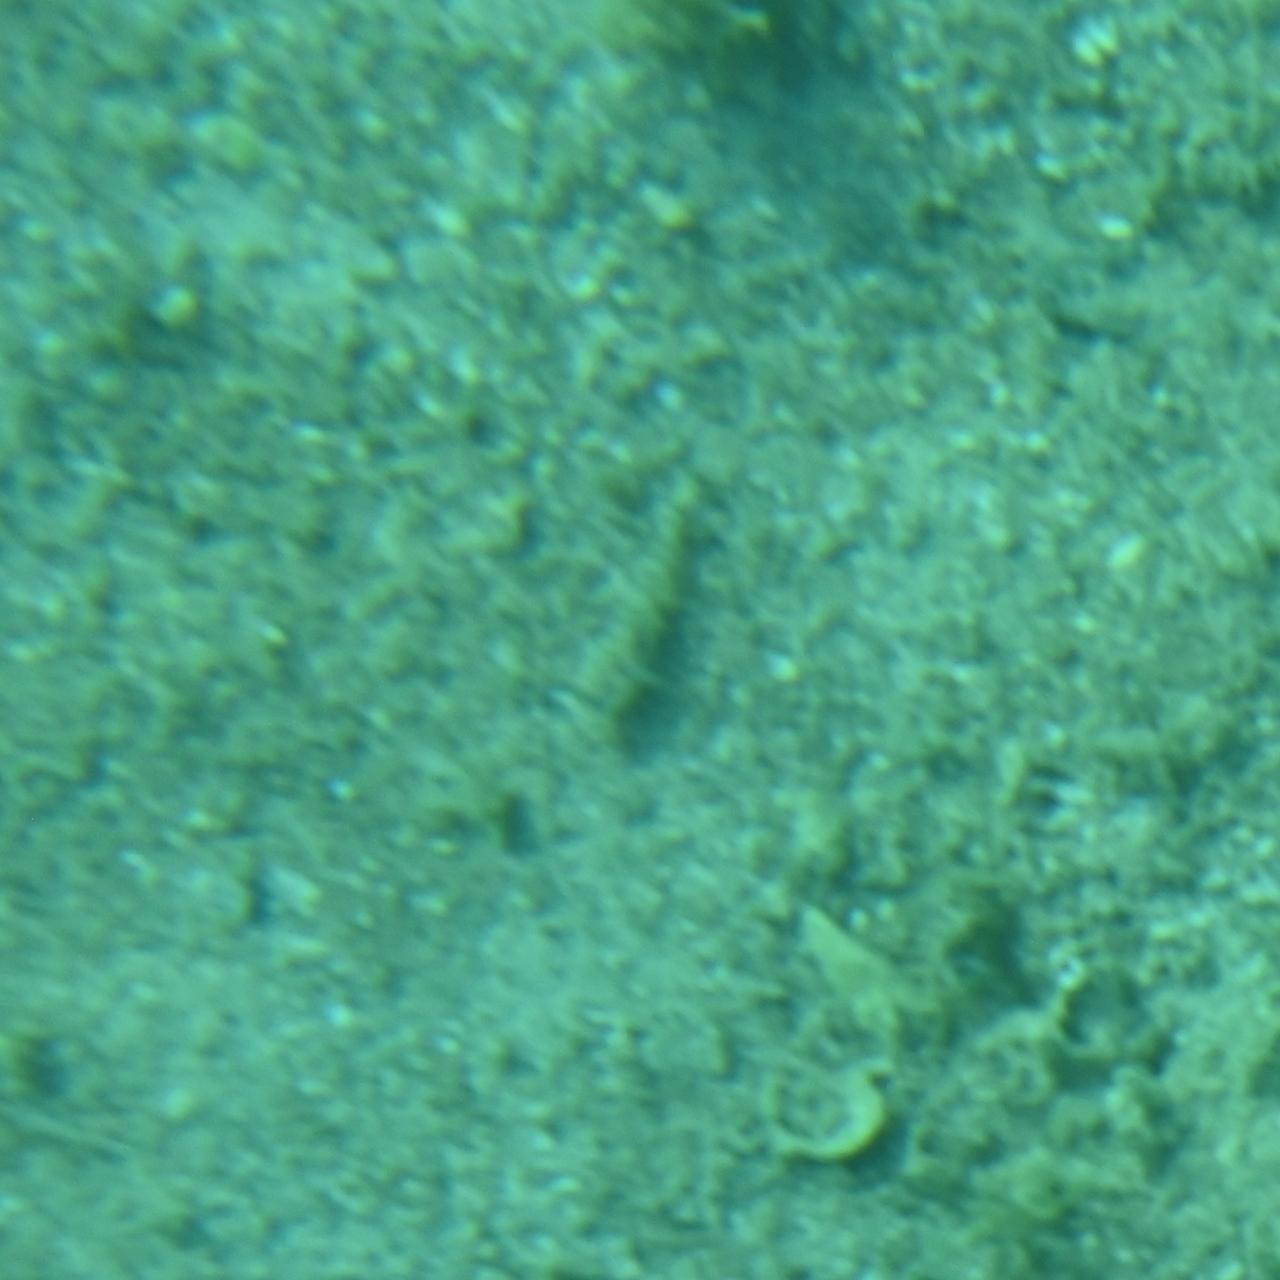Gobius sp: (551, 464, 729, 768)
